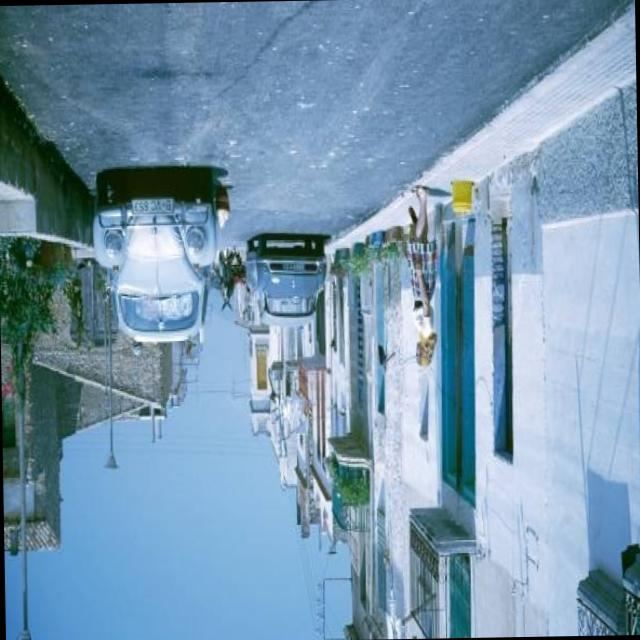car: (92, 180, 218, 338), (250, 240, 326, 322)
